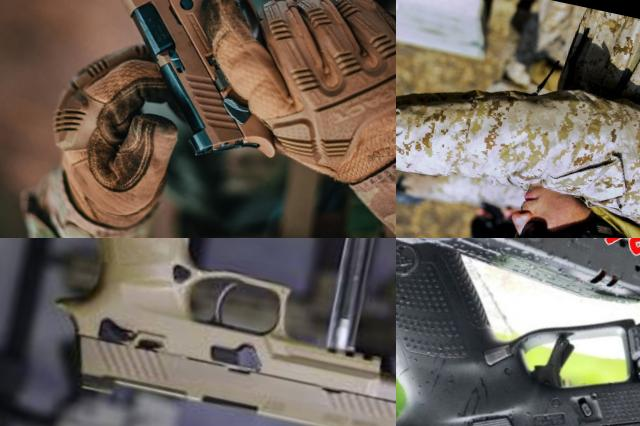handgun: (16, 0, 396, 196), (31, 238, 396, 426), (396, 238, 640, 426), (396, 124, 463, 203)
